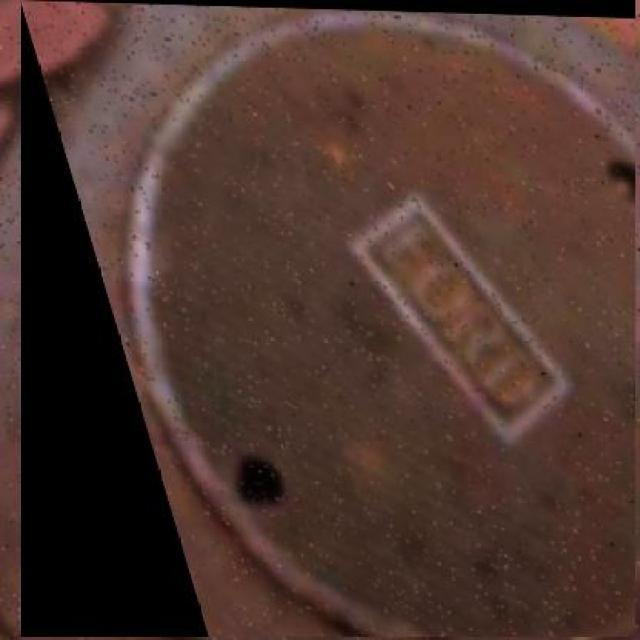Manhole: (21, 0, 636, 637)
